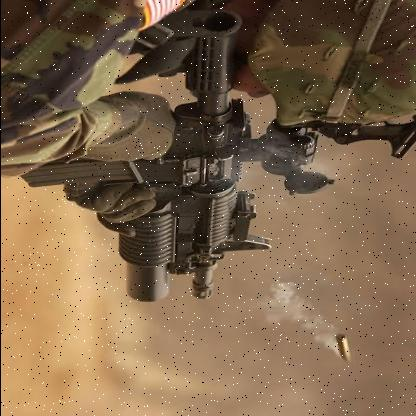rifle: (12, 7, 338, 305)
